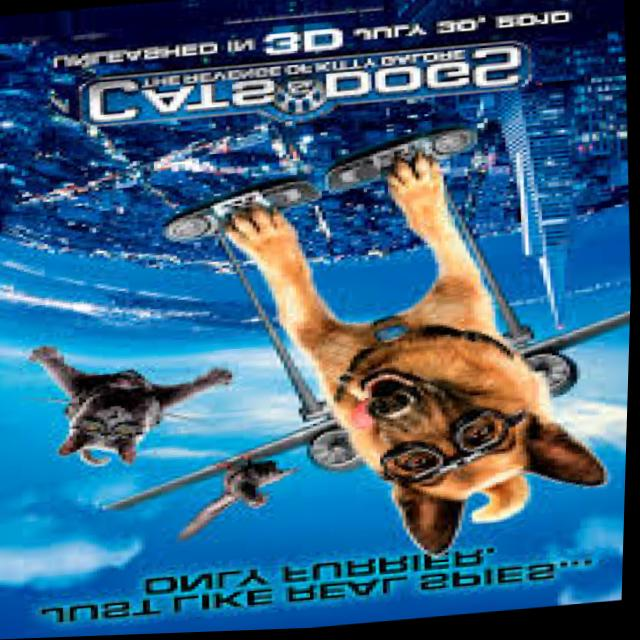Cat: (28, 319, 224, 499)
Dog: (259, 190, 617, 565)
